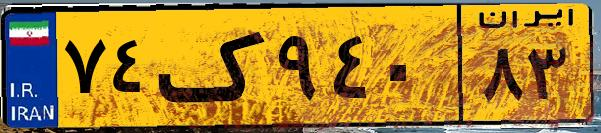0: (385, 28, 445, 110)
3: (525, 38, 570, 115)
4: (330, 28, 385, 110), (110, 28, 158, 98)
7: (57, 26, 110, 100)
8: (475, 38, 525, 113)
9: (270, 28, 330, 110)
ک: (158, 12, 270, 120)
